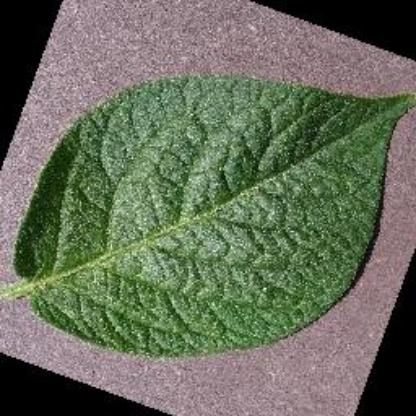Healthy-plant: (4, 71, 414, 356)
